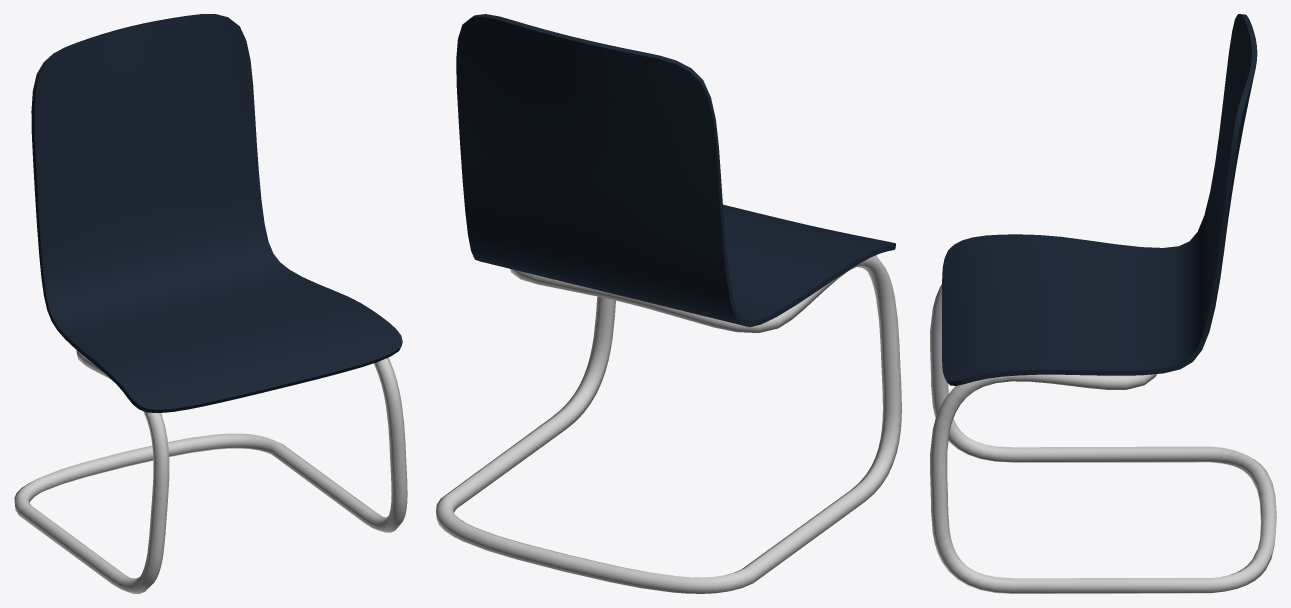
The model's file is Chair.fbx.
3 renders of one model, left to right at view 1: azimuth 30°, elevation 25°; view 2: azimuth 150°, elevation 25°; view 3: azimuth 270°, elevation 25°, orthographic. The views are drawn at different scales.
Parts seen in each view (by area): view 1: Chair; view 2: Chair; view 3: Chair.
Boxes of the visible parts, x1,y1,x2,y2 form: Chair: (14,14,407,593); Chair: (436,14,901,593); Chair: (930,14,1276,593).
Size of the model in its own units: 61.6 by 97.96 by 64.7.
